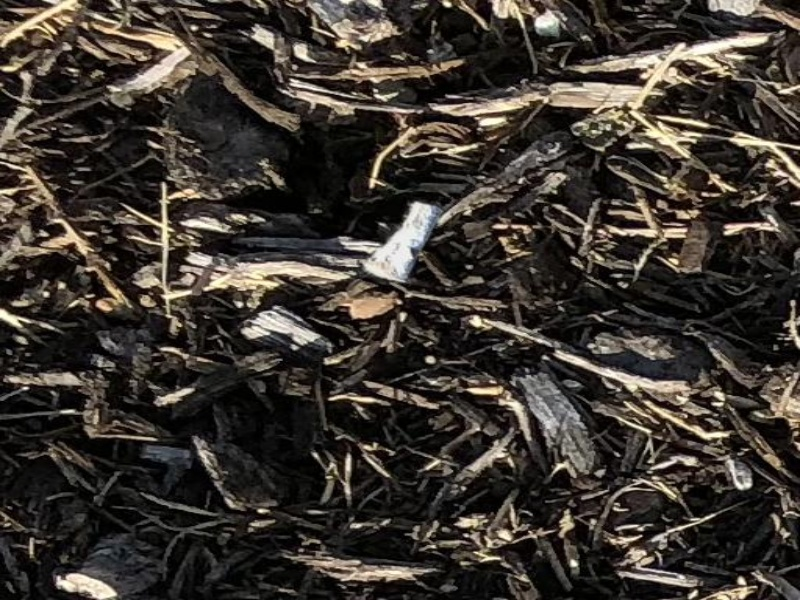cig: (377, 192, 428, 285)
